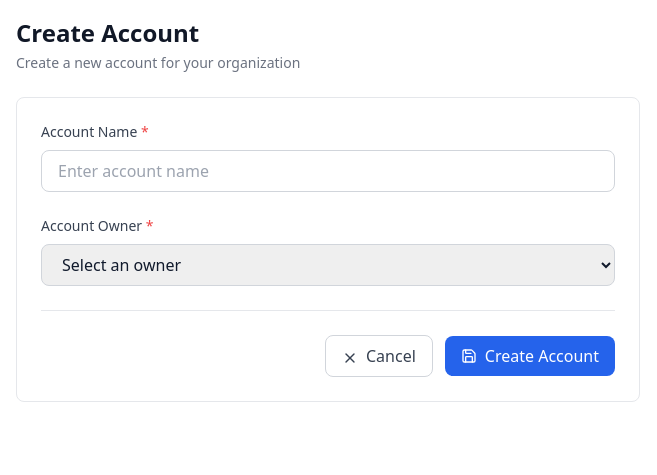
Scenario: AccountForm › Create Mode › should validate required account name
Expected: the heading "Create Account" is shown, [16,16,199,49]
Step 1. Click the button "Create Account" → [530, 356], box [445,336,615,376]
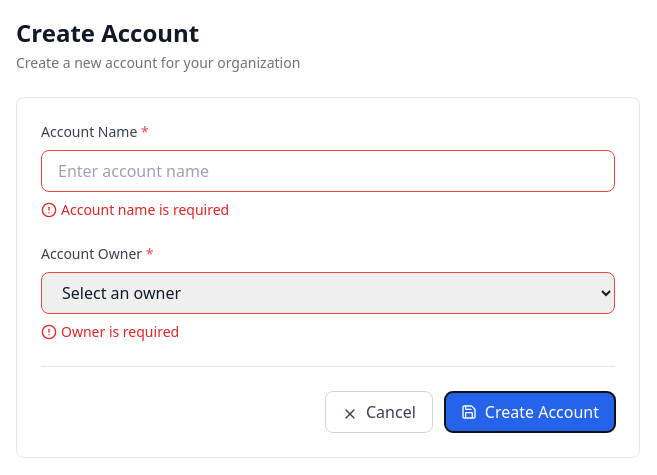
Expected: the text "Account name is required" is shown, [41,200,229,219]
